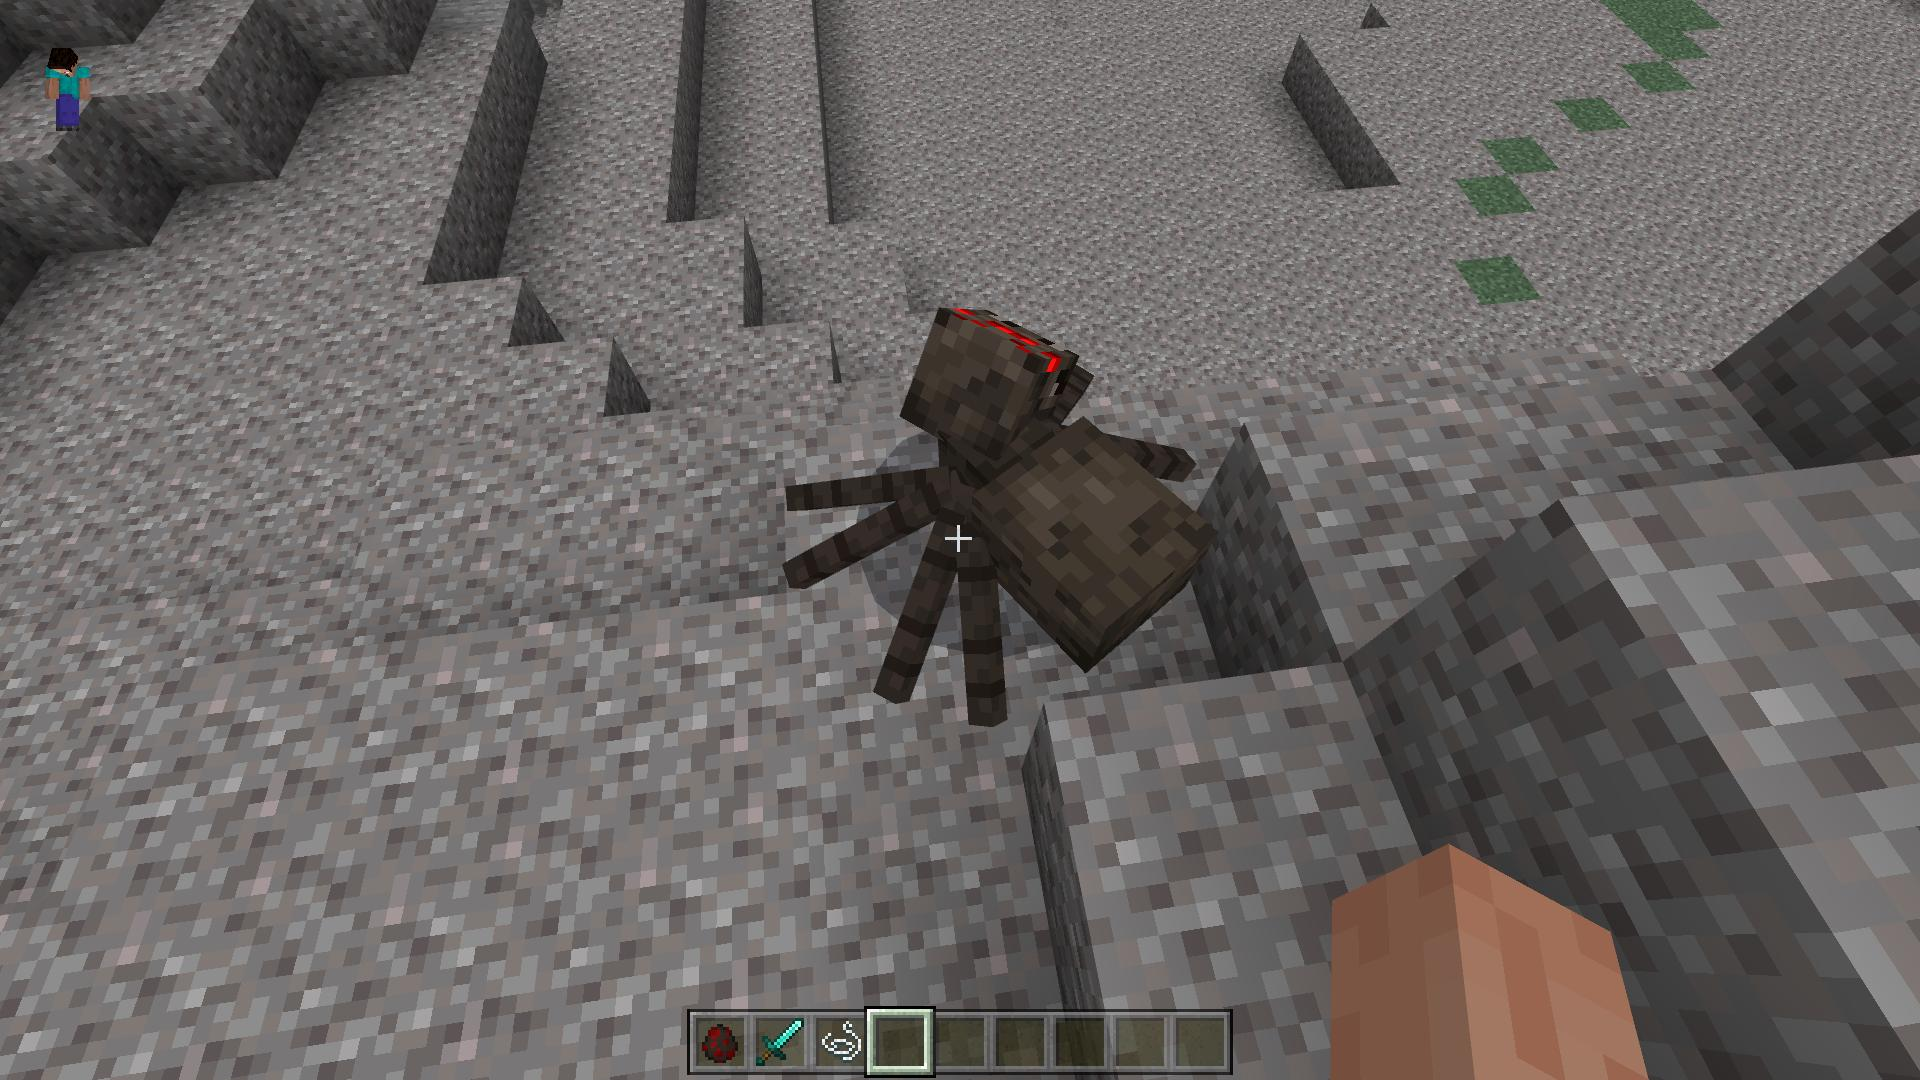spider: (778, 303, 1217, 728)
